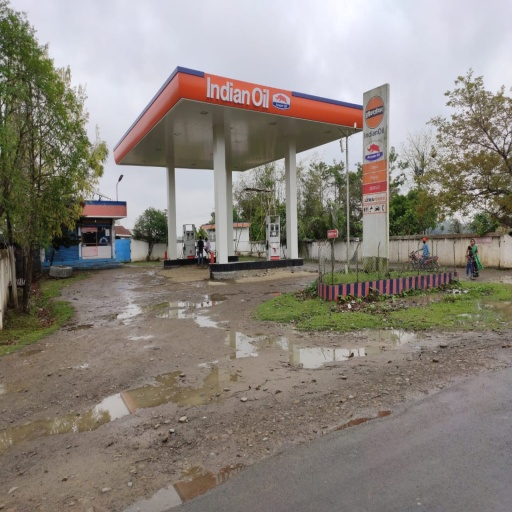roof: (119, 66, 362, 175)
